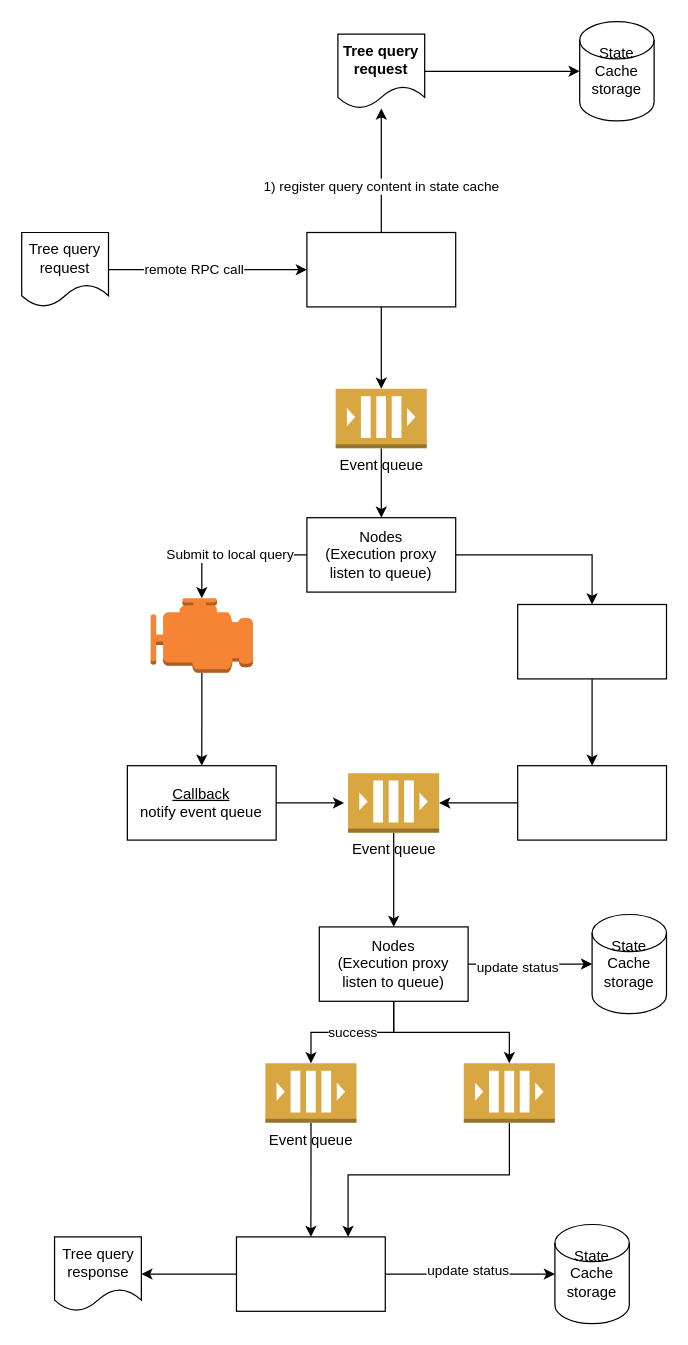
The diagram is 688 pixels wide and 1345 high, and some of its shapes have lost their labels. Here are the shapes that lost their labels. From the top down, the box of each, then its label:
(306, 231, 456, 307): Nodes (endpoint insert to queue)
(149, 597, 253, 673): Query engine (Apache Drill / Apache Beam)
(516, 603, 666, 679): Remote notes (Execution proxy)
(516, 764, 666, 840): Remote Callback notify event queue
(463, 1062, 555, 1123): Fail Event queue
(235, 1236, 385, 1311): Nodes (endpoint listen to queue)
